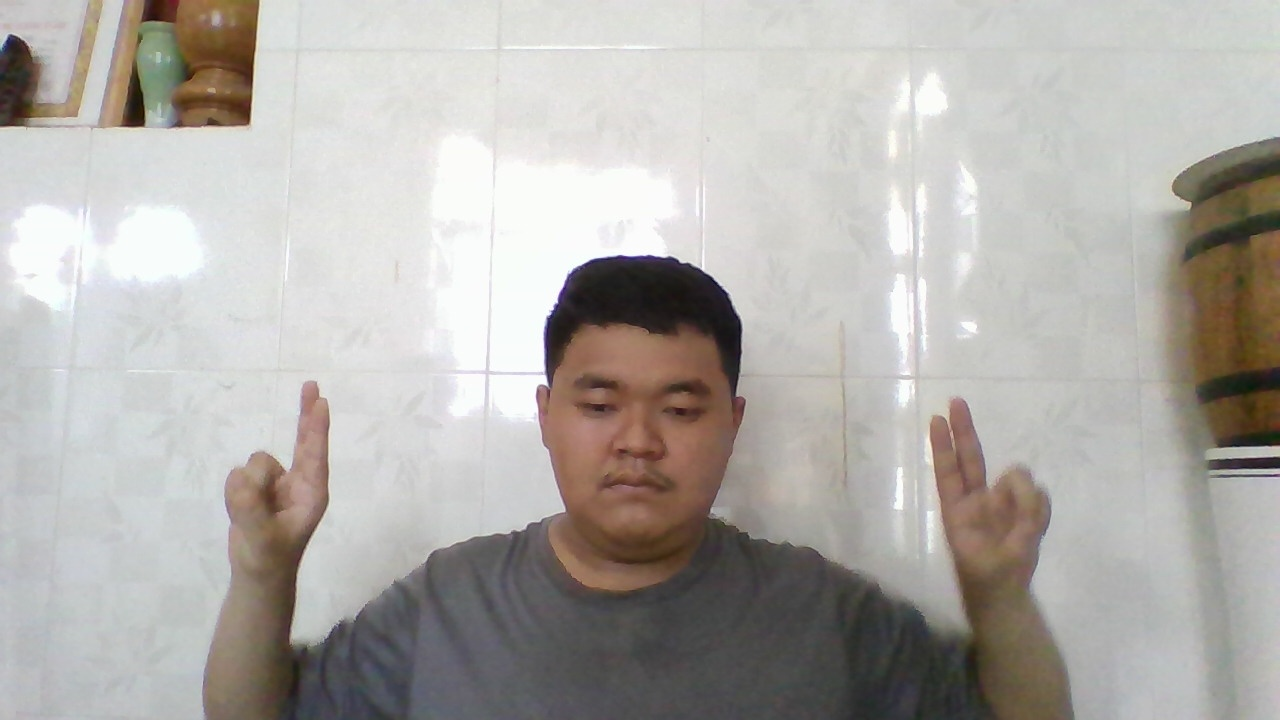U: (922, 388, 1058, 609), (215, 372, 333, 588)
